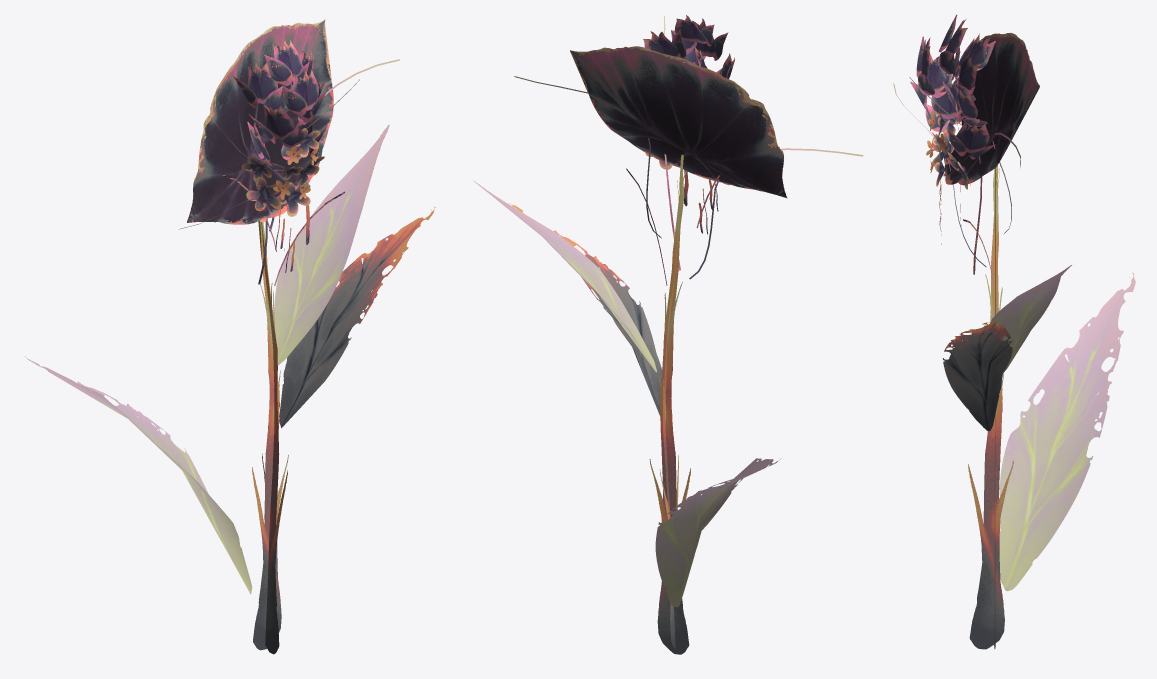
The picture shows the model from 3 angles, left to right: view 1: azimuth 30°, elevation 25°; view 2: azimuth 150°, elevation 25°; view 3: azimuth 270°, elevation 25°; orthographic projection.
Visible parts, largest first — view 1: C02; view 2: C02; view 3: C02.
Part boxes in pixels (<box>): C02: <box>24,20,435,654</box>; C02: <box>473,15,863,654</box>; C02: <box>893,14,1135,649</box>.
Size of the model in its own units: 648 by 1088 by 389.
